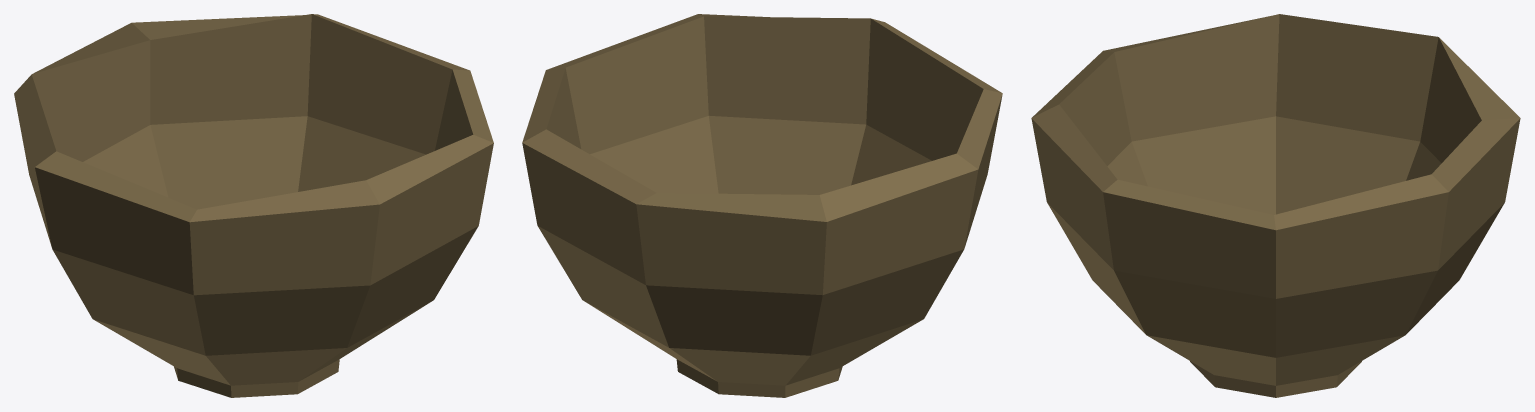
File: Plate_1.fbx
3 renders of one model, left to right at view 1: azimuth 30°, elevation 25°; view 2: azimuth 150°, elevation 25°; view 3: azimuth 270°, elevation 25°, orthographic.
Parts seen in each view (by area): view 1: Plate_1; view 2: Plate_1; view 3: Plate_1.
Part boxes in pixels (box(x1,y1,x2,y2)): Plate_1: box(14, 14, 493, 397); Plate_1: box(522, 14, 1002, 397); Plate_1: box(1031, 14, 1520, 397).
Bounding box in the file's own units: 27.45 × 15.86 × 27.24.
